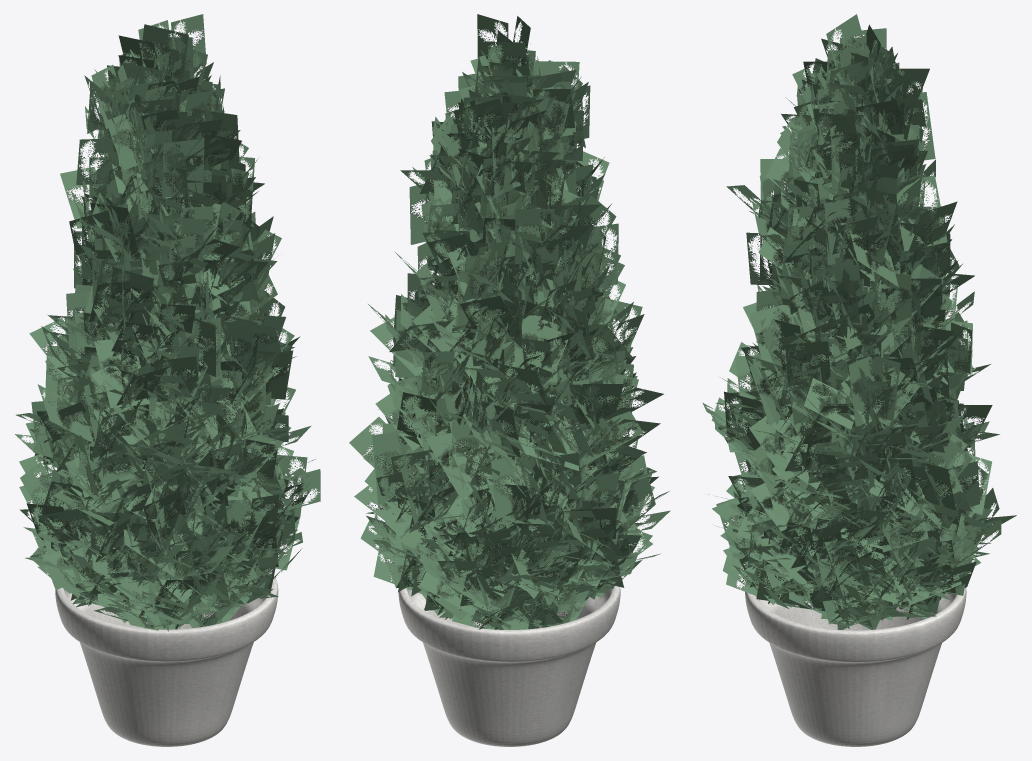
Rendered from arbolVasija1.FBX.
The picture shows the model from 3 angles, left to right: view 1: azimuth 30°, elevation 25°; view 2: azimuth 150°, elevation 25°; view 3: azimuth 270°, elevation 25°; orthographic projection.
Parts seen in each view (by area): view 1: sub01; view 2: sub01; view 3: sub01, sub02.
Part boxes in pixels (<box>): sub01: <box>15,14,320,746</box>; sub01: <box>349,14,670,746</box>; sub01: <box>702,14,1016,746</box>; sub02: <box>855,608,951,746</box>.
Size of the model in its own units: 0.7653 by 1.84 by 0.7561.
